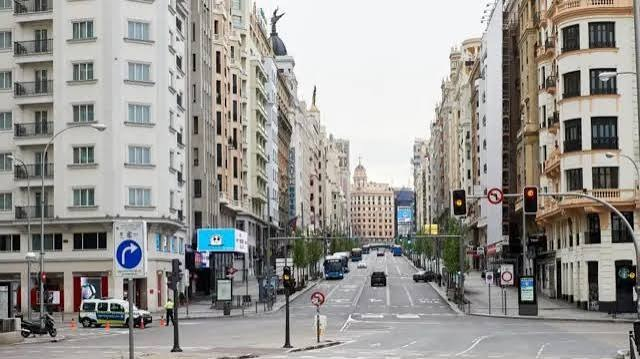car: (80, 304, 155, 329), (12, 312, 60, 341)
